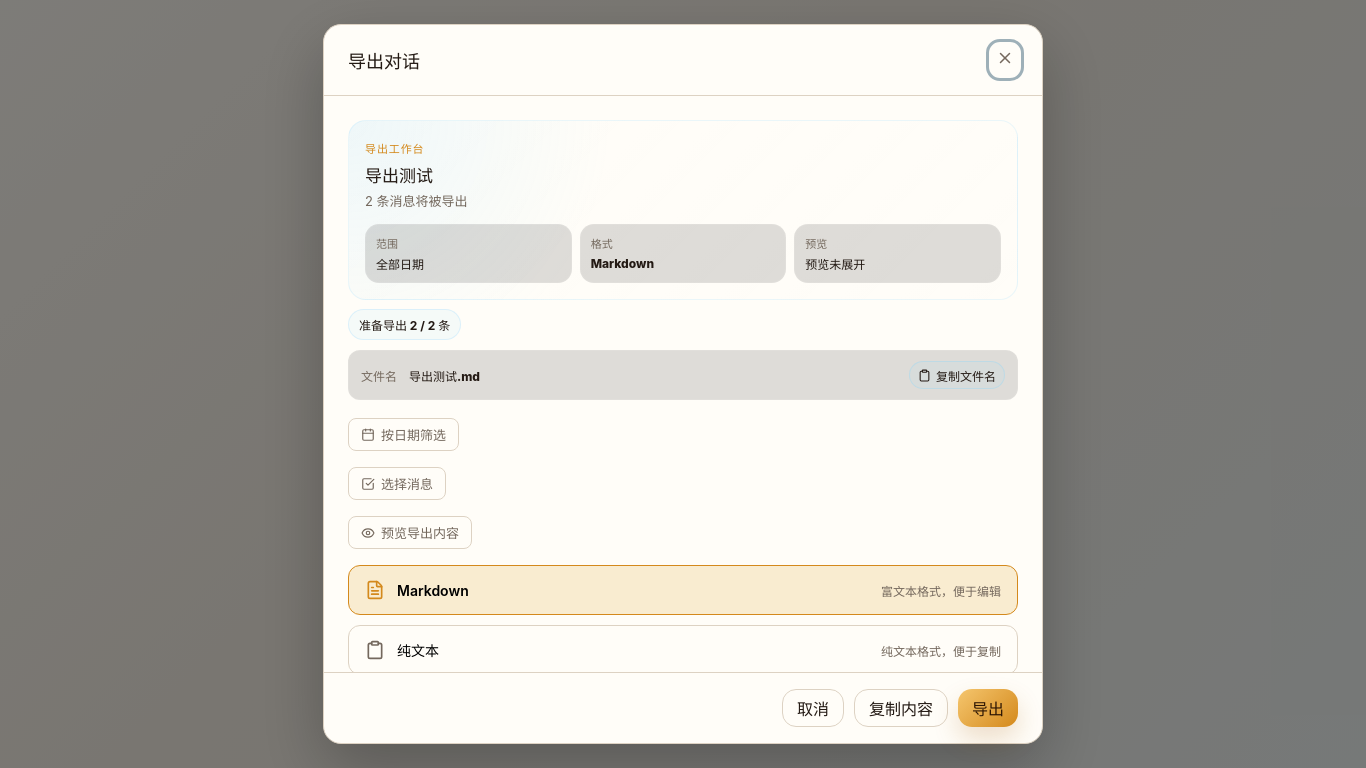
it: ExportModal › makes export controls accessible and blocks empty manual selections
Click the button "按日期筛选".
click(404, 434)  # box x1=348 y1=418 x2=459 y2=451
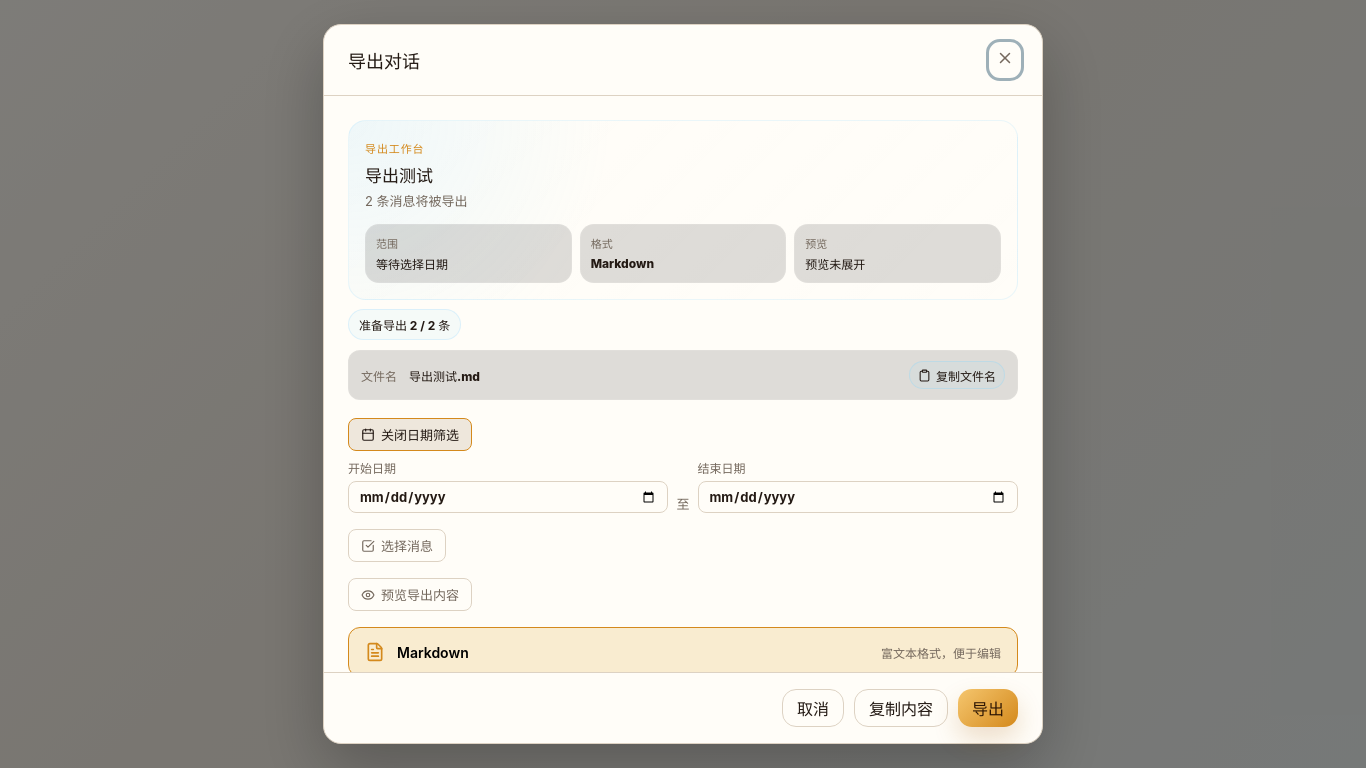
Check: the button named "按日期筛选" is expanded, box x1=348 y1=418 x2=472 y2=451
Check: the date field labelled "开始日期" is shown, box x1=348 y1=481 x2=668 y2=513
Check: the date field labelled "结束日期" is shown, box x1=698 y1=481 x2=1018 y2=513
Click the button "选择消息".
click(397, 546)  # box x1=348 y1=529 x2=446 y2=562
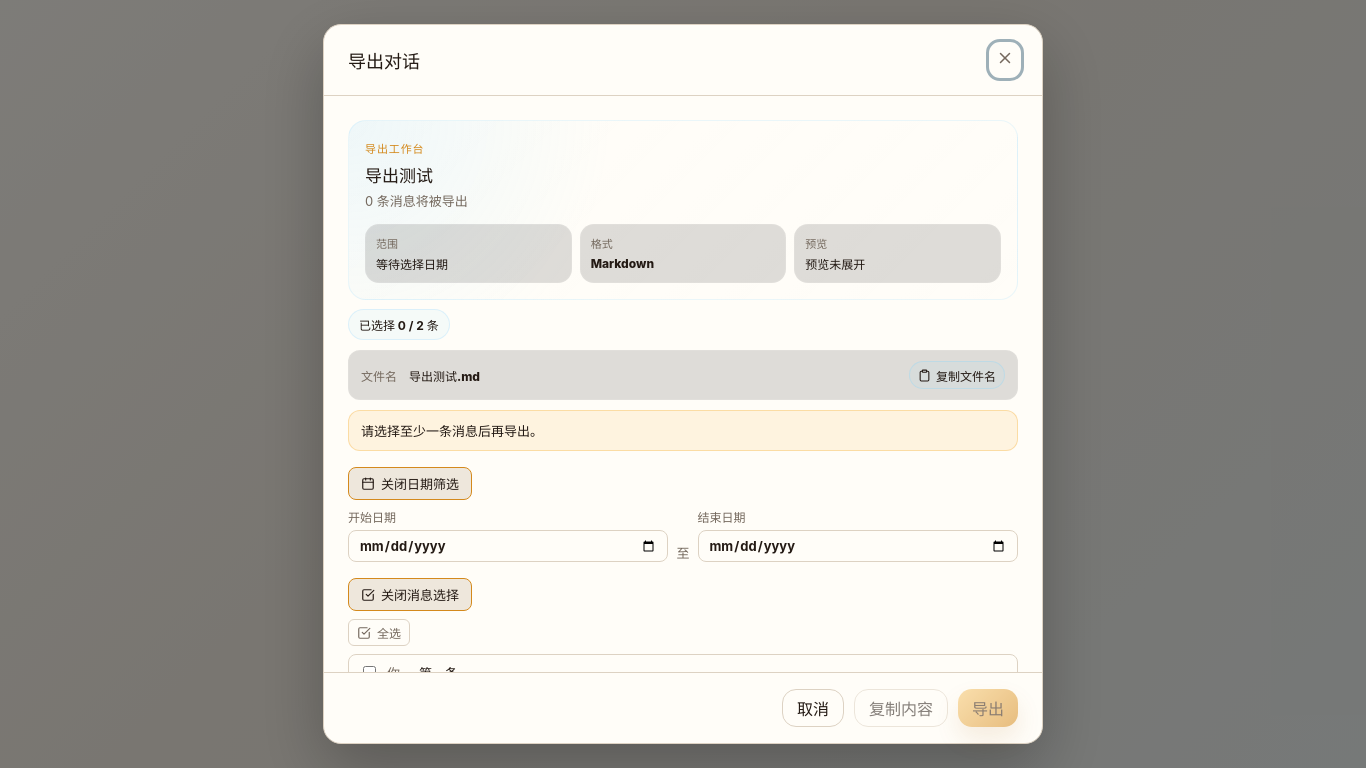
Check: the button "导出" is disabled, box x1=958 y1=689 x2=1018 y2=727
Check: the text "请选择至少一条消息后再导出。" is shown, box x1=348 y1=410 x2=1018 y2=451
